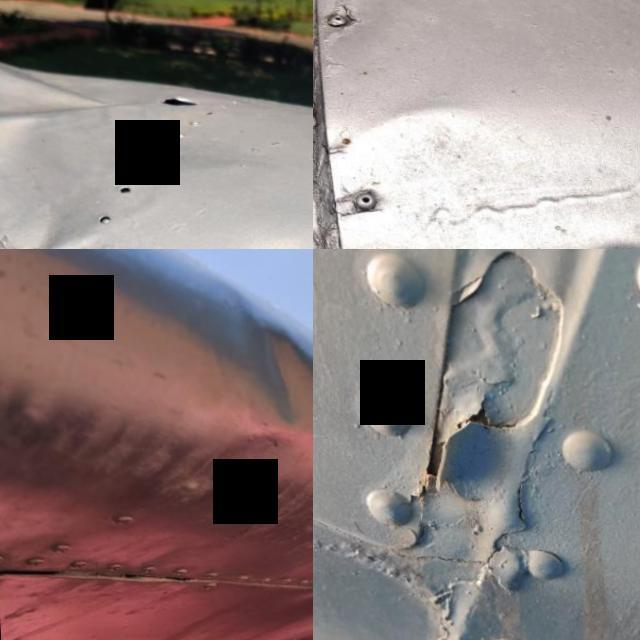Crack: (390, 384, 526, 528)
Dent: (208, 282, 313, 450), (0, 187, 103, 249)
Missing_Fastener: (103, 168, 144, 206), (122, 144, 160, 180), (144, 131, 178, 163)
